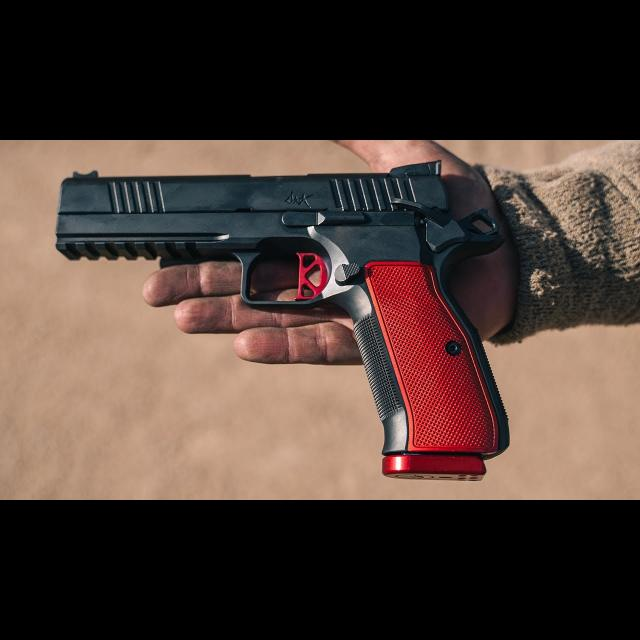handgun: (48, 155, 516, 485)
